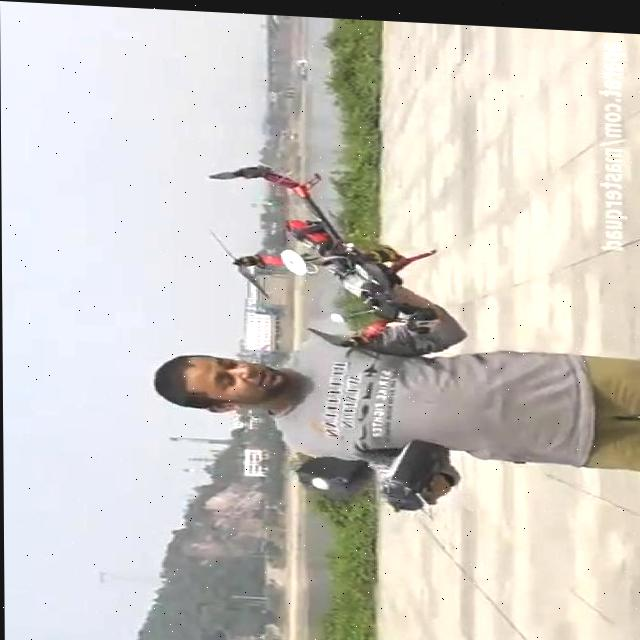drone: (203, 152, 437, 358)
